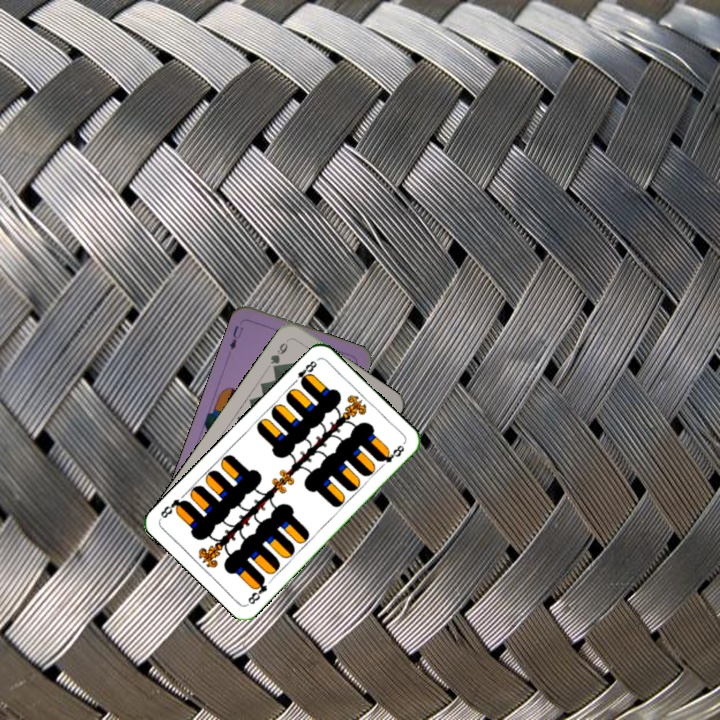E8: (288, 355, 321, 388), (243, 573, 270, 607)
EU: (226, 322, 246, 353)
G9: (266, 335, 292, 374)
